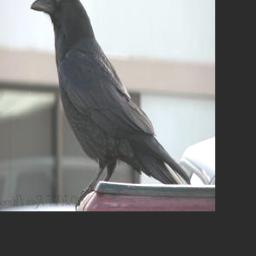Crow: (30, 0, 193, 207)
